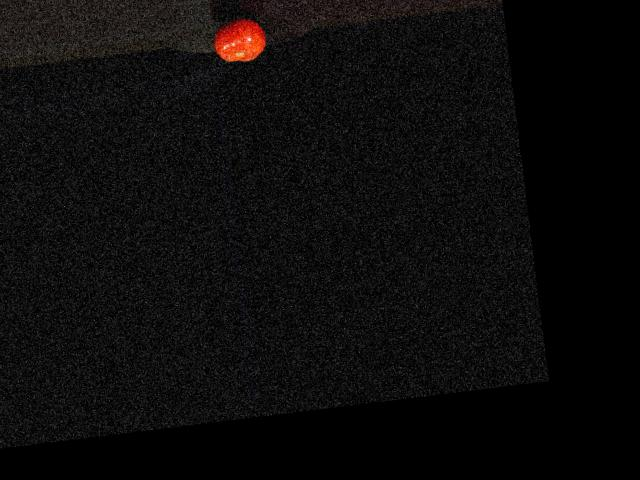tomato: (211, 15, 269, 65)
